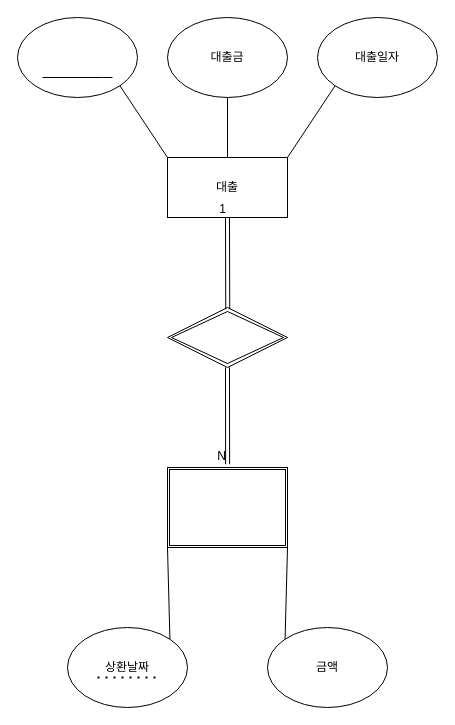
The diagram is 455 pixels wide and 725 high, and some of its shapes have lost their labels. Each missing label, with the centre of its shape:
"대출번호" goes at point 77,57.
"대출상환" goes at point 227,507.
"상환하다" goes at point 227,337.
